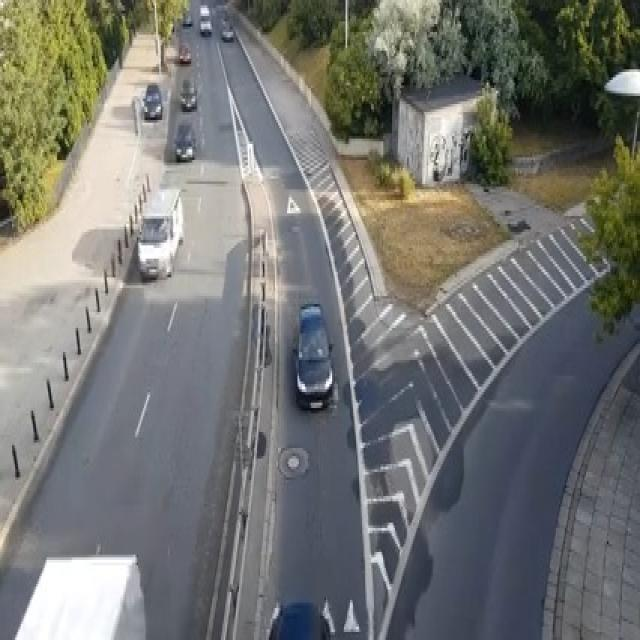bus: (11, 550, 147, 638)
car: (292, 301, 334, 408), (173, 120, 195, 160), (141, 83, 162, 120), (179, 78, 197, 110), (219, 19, 233, 40), (198, 16, 212, 35), (179, 40, 191, 61), (182, 8, 192, 24), (198, 3, 209, 16)
truck: (137, 187, 183, 280)
